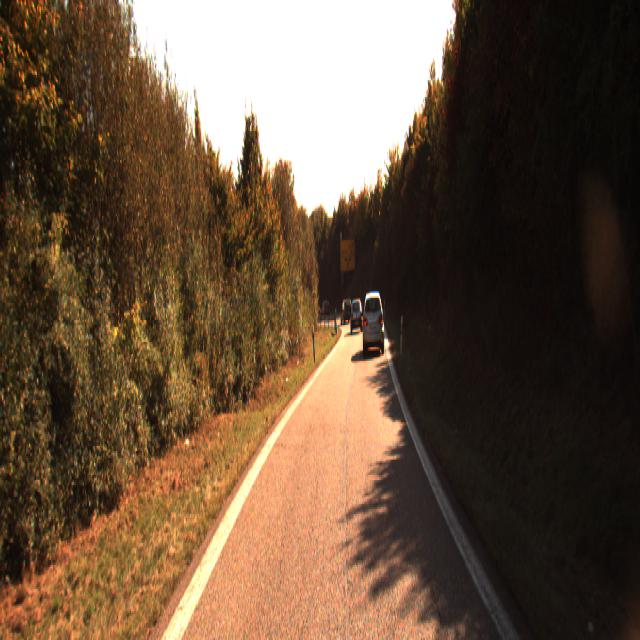Car: (362, 289, 384, 353), (350, 300, 362, 334), (340, 301, 352, 325)
